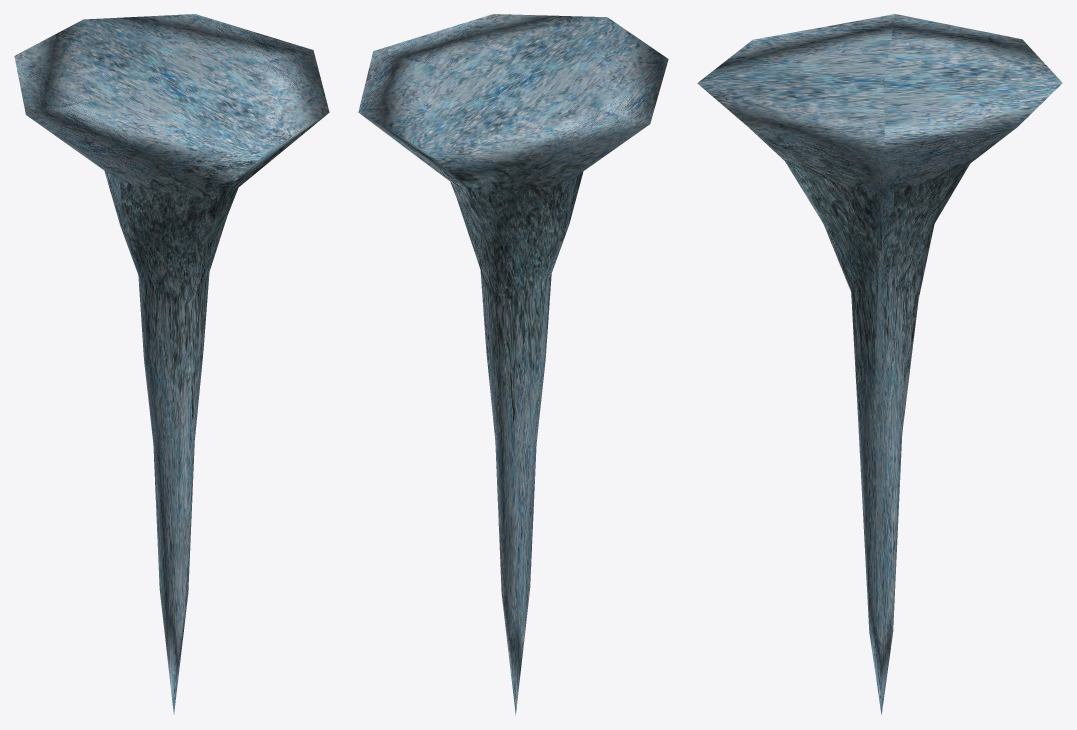
Rendered from thm_all_cave_stalagtite_ice_c3_l0.fbx.
The picture shows the model from 3 angles, left to right: view 1: azimuth 30°, elevation 25°; view 2: azimuth 150°, elevation 25°; view 3: azimuth 270°, elevation 25°; orthographic projection.
Visible parts, largest first — view 1: mesh_node; view 2: mesh_node; view 3: mesh_node.
Boxes of the visible parts, left/top/right/bottom form: mesh_node: left=14, top=14, right=329, bottom=714; mesh_node: left=358, top=14, right=668, bottom=715; mesh_node: left=697, top=14, right=1062, bottom=714.
Size of the model in its own units: 4.43 by 9.45 by 4.95.
